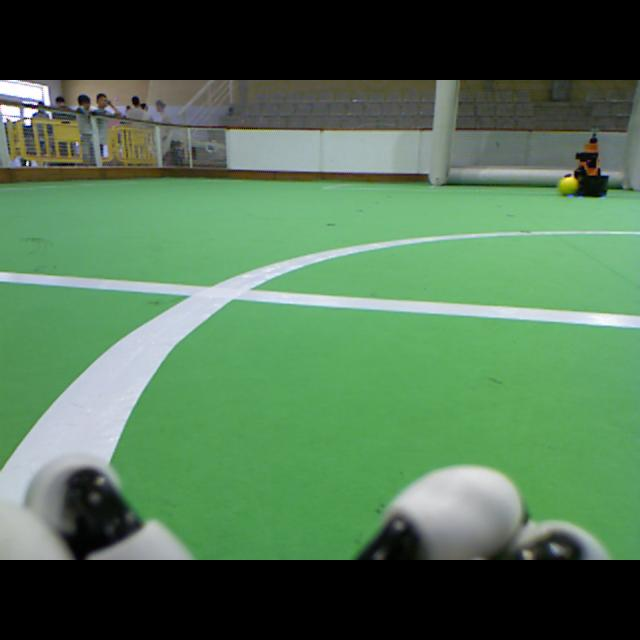ball: (560, 177, 575, 194)
robot: (571, 129, 608, 197)
